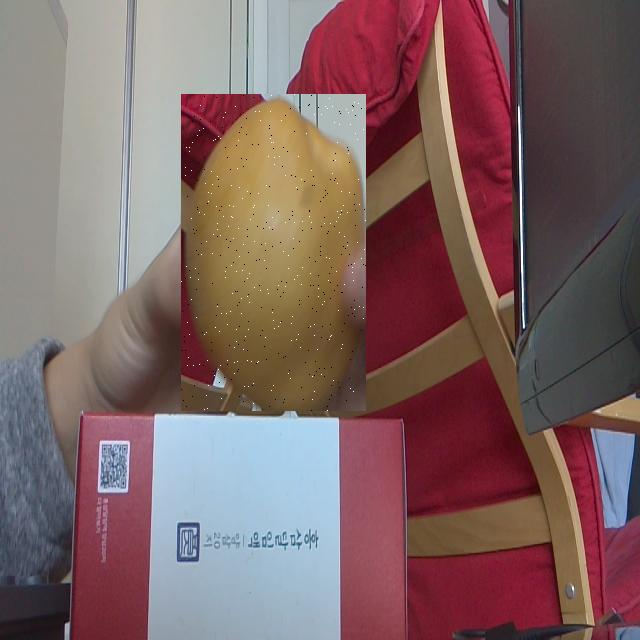pear: (181, 94, 366, 411)
